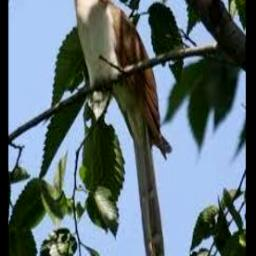Cuckoo: (57, 0, 172, 256)
